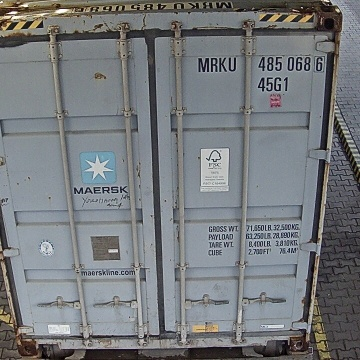serial_id: (198, 55, 325, 71)
